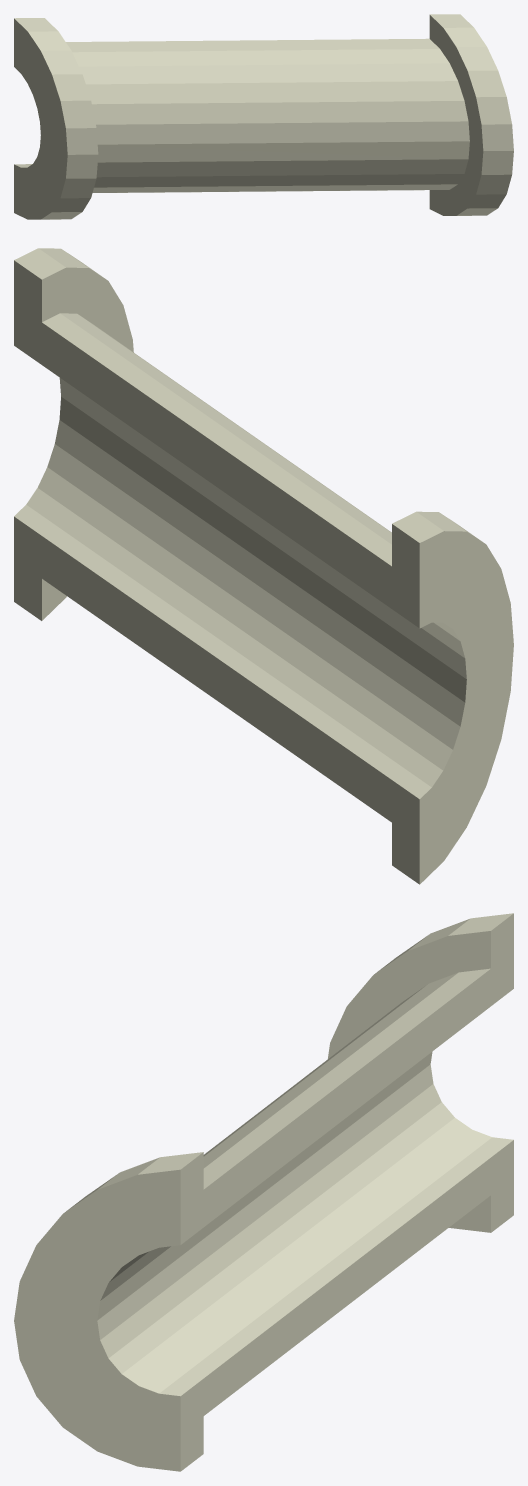
The model's file is section_112.obj.
3 renders of one model, top to bottom at view 1: azimuth 30°, elevation 25°; view 2: azimuth 150°, elevation 25°; view 3: azimuth 270°, elevation 25°, orthographic. The views are drawn at different scales.
Size of the model in its own units: 14.56 by 8 by 12.
